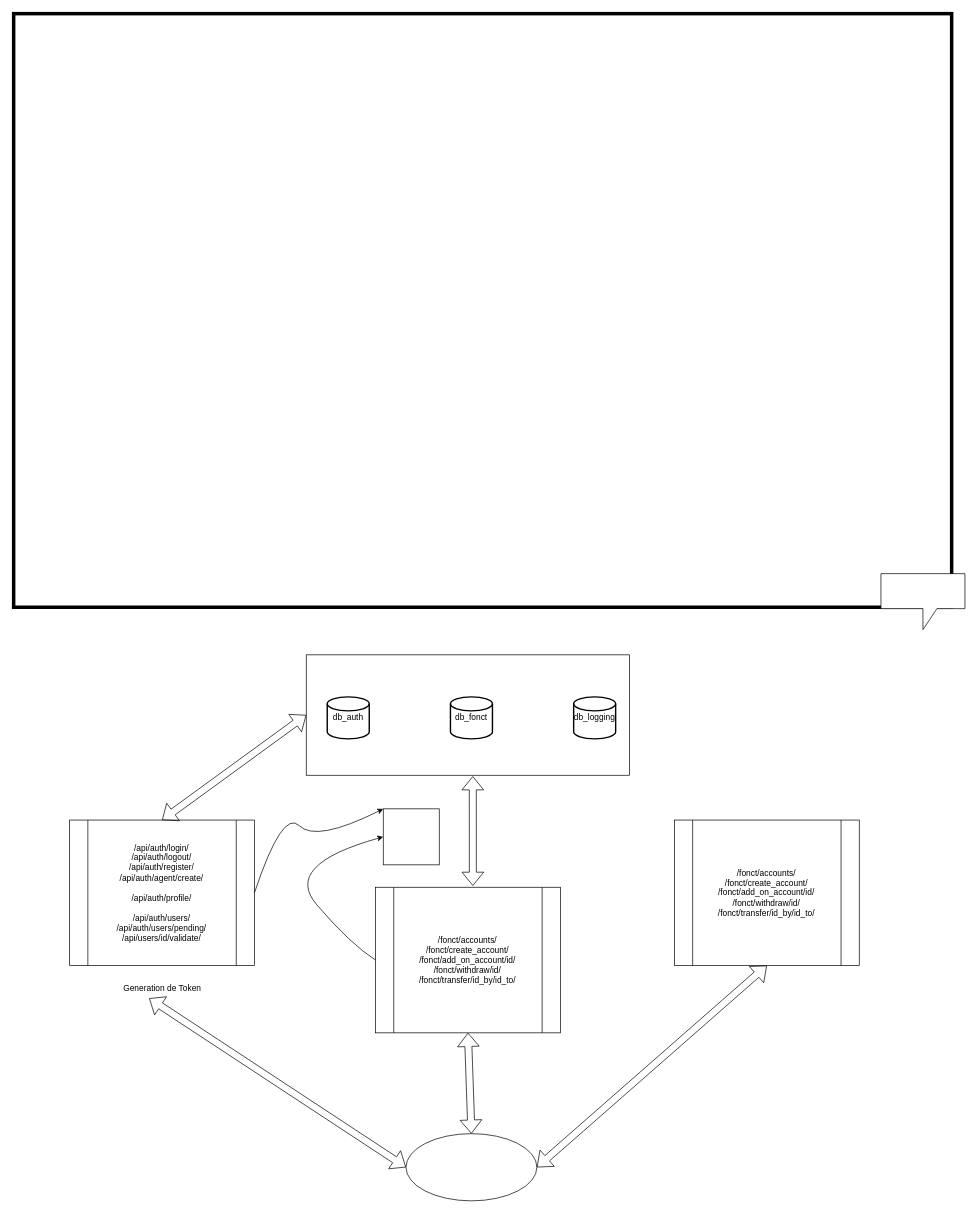
The diagram is 977 pixels wide and 1213 high, and some of its shapes have lost their labels. The centre of each missing label's shape, as x and y in pixels:
"DockerCompose" goes at point 922,601.
"NATS" goes at point 471,1167.
"Operation verifié par AGENT" goes at point 411,836.
